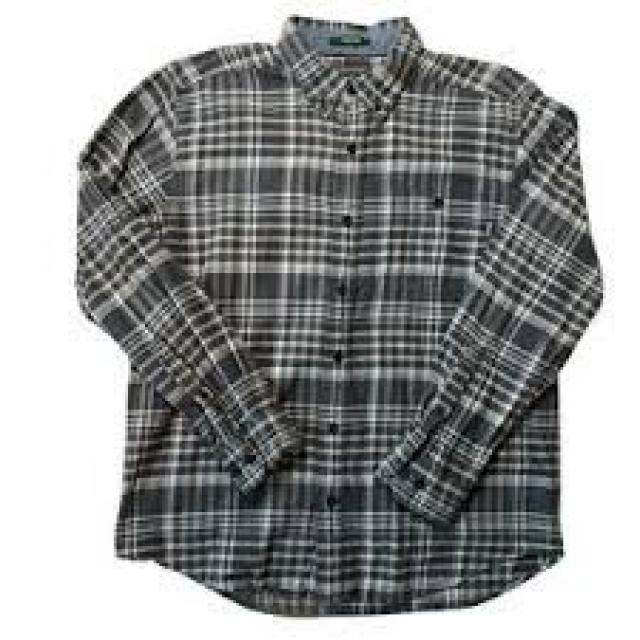plaid: (75, 13, 608, 623)
